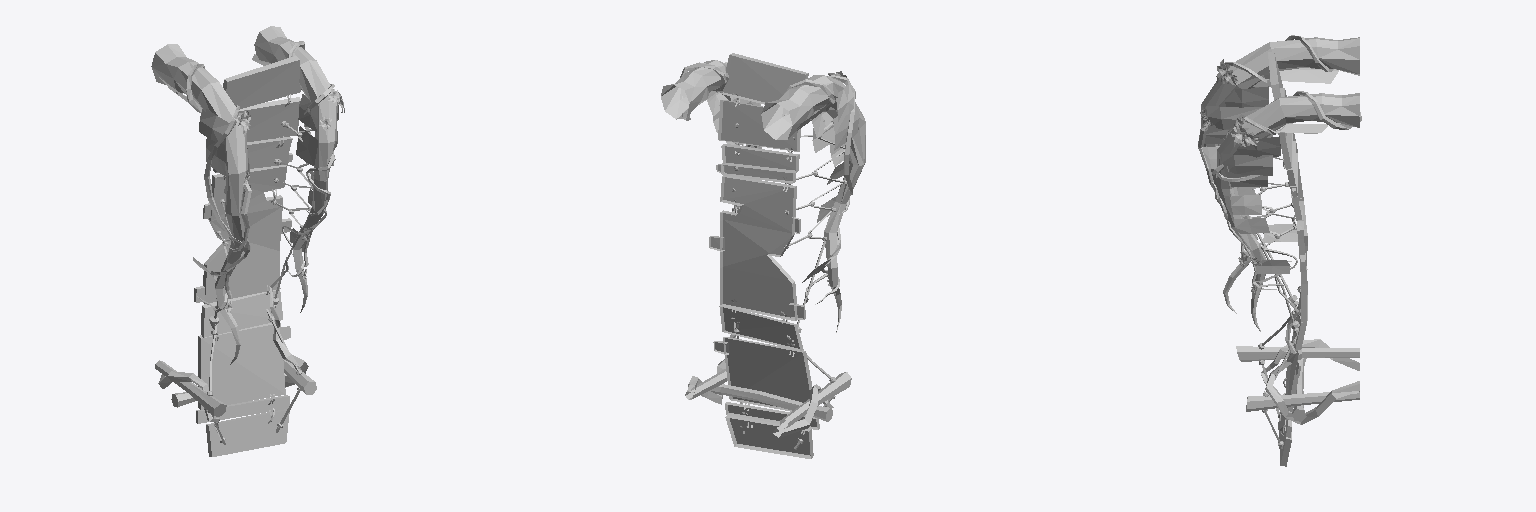
Rendered from jingling01_qiao02.obj.
3 renders of one model, left to right at view 1: azimuth 30°, elevation 25°; view 2: azimuth 150°, elevation 25°; view 3: azimuth 270°, elevation 25°, orthographic.
Visible parts, largest first — view 1: jingling01_qiao02; view 2: jingling01_qiao02; view 3: jingling01_qiao02.
Part boxes in pixels (bbox=[...]): jingling01_qiao02: bbox=[151, 26, 344, 456]; jingling01_qiao02: bbox=[661, 53, 865, 458]; jingling01_qiao02: bbox=[1198, 35, 1361, 466].
Bounding box in the file's own units: 544 × 1425 × 543.